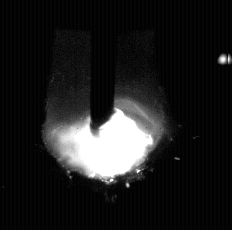arame: (91, 0, 115, 136)
poca: (42, 0, 163, 230)
